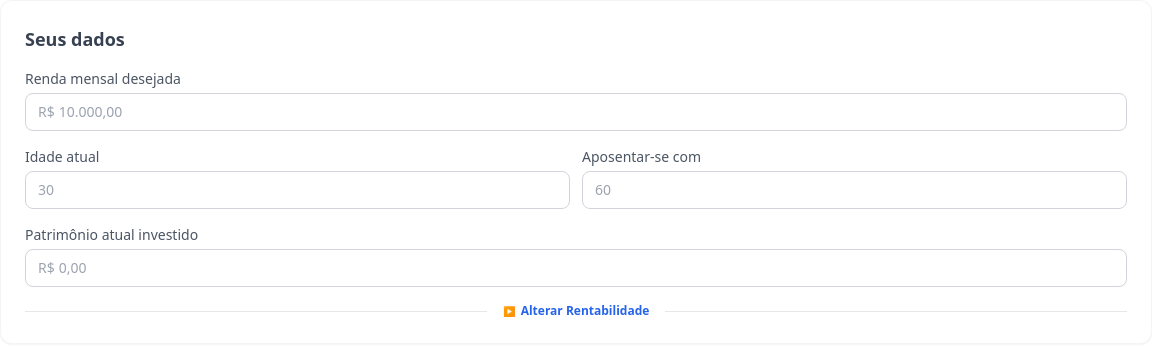
Test case: InputForm › keeps current wealth free while typing and formats it on blur
Type "12345,67" into the field with placeholder "0,00".
click(586, 268); type("12345,67")  # box [59,258,1114,278]
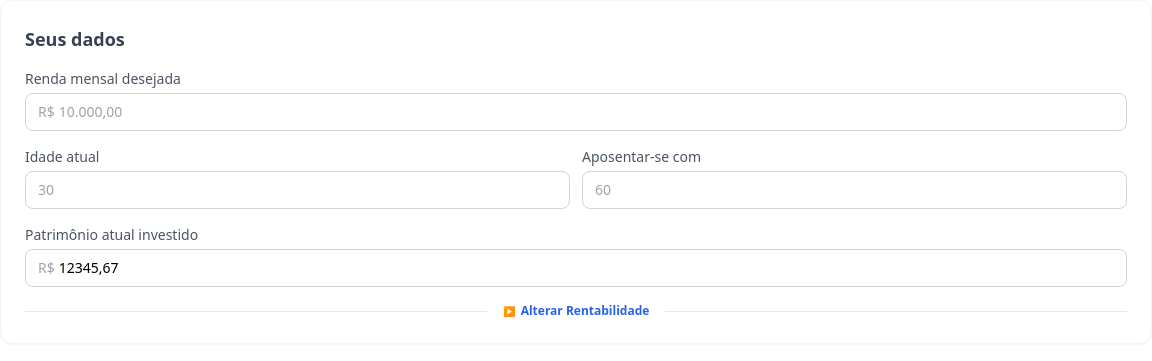
Leave the field showing "12345,67", box [59,258,1114,278]
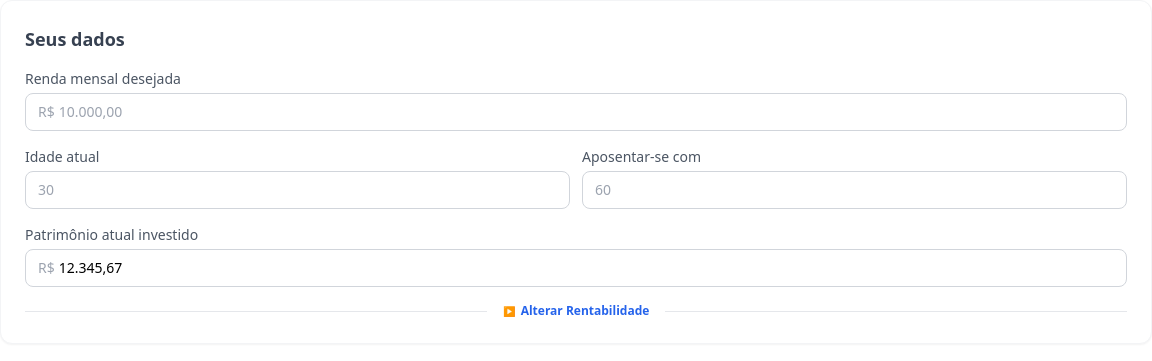
Expected: the field showing "12.345,67" is shown
Replace the text in the field showing "12.345,67" with "155500" at (586, 268), box [59,258,1114,278]
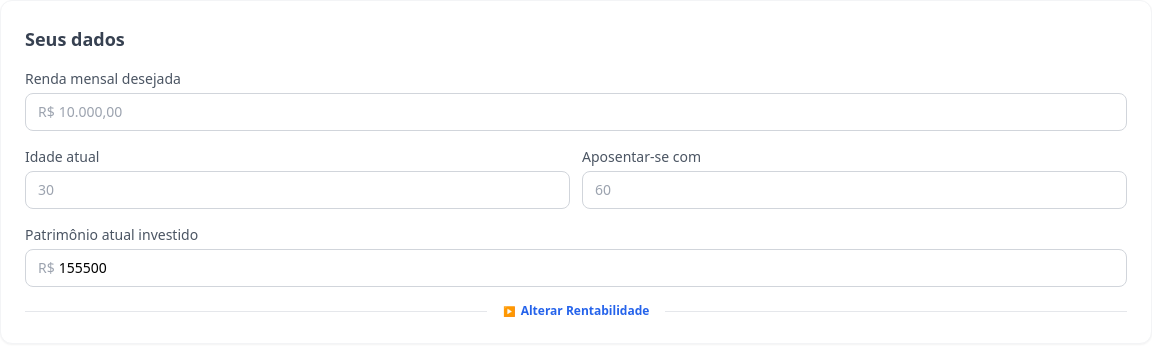
Leave the field showing "155500", box [59,258,1114,278]
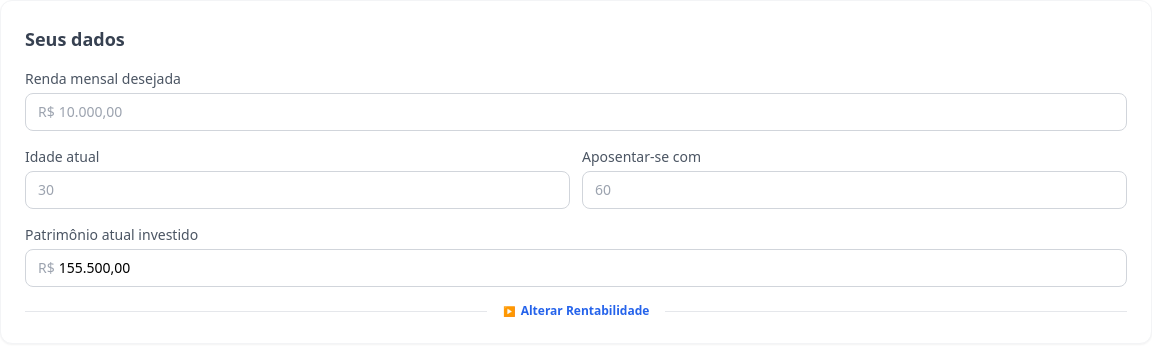
Expected: the field showing "155.500,00" is shown, [59,258,1114,278]
